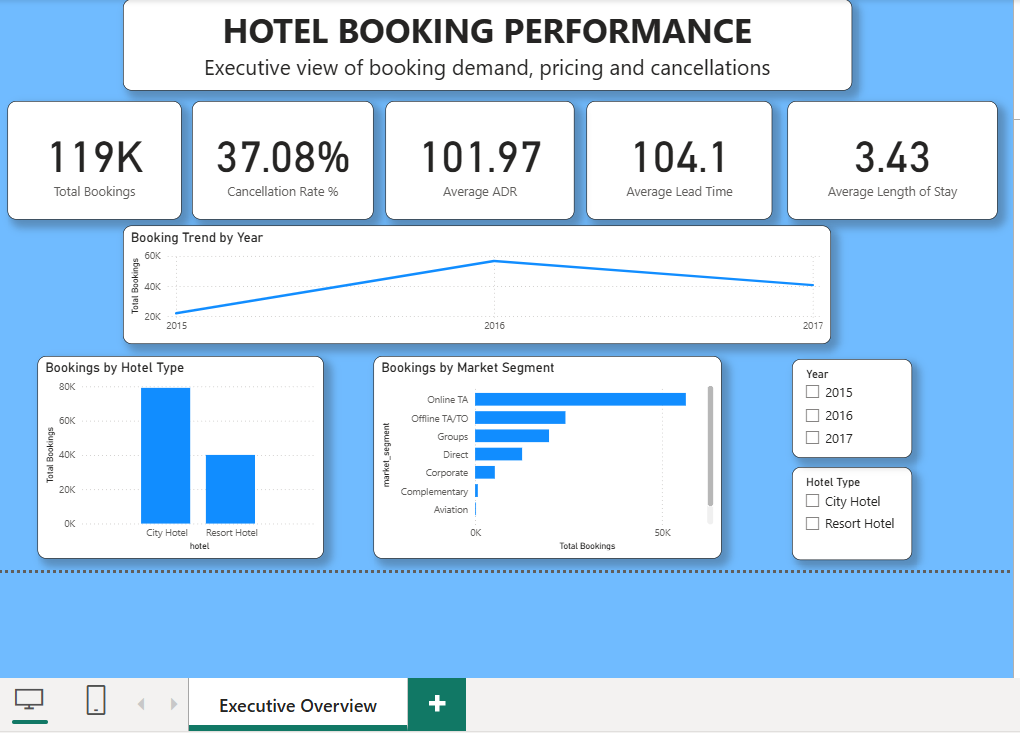

The page's visual inventory and layout, read from the dashboard file:
{"tool":"powerbi","page":{"name":"Executive Overview","canvas":[1280,720],"ordinal":0},"visuals":[{"type":"textbox","box":[158.7,0,918.4,115.3],"z":0},{"type":"card","fields":{"Values":["FactBookings.Total Bookings"]},"box":[13.2,128.5,219.2,149.3],"z":1},{"type":"card","fields":{"Values":["FactBookings.Average Lead Time"]},"box":[742.7,128.5,234.3,149.3],"z":2},{"type":"card","fields":{"Values":["FactBookings.Cancellation Rate %"]},"box":[245.7,128.5,228.7,149.3],"z":3},{"type":"card","fields":{"Values":["FactBookings.Average ADR"]},"box":[489.5,128.5,238.1,149.3],"z":4},{"type":"card","fields":{"Values":["FactBookings.Average Length of Stay"]},"box":[995.9,128.5,264.6,149.3],"z":5},{"type":"lineChart","title":"Booking Trend by Year","fields":{"Category":["DimDate.Date.Variation.Date Hierarchy.Year"],"Y":["FactBookings.Total Bookings"]},"box":[158.7,285.4,892,149.3],"z":6},{"type":"clusteredColumnChart","title":"Bookings by Hotel Type","fields":{"Category":["DimHotel.hotel"],"Y":["FactBookings.Total Bookings"]},"box":[51,449.8,360.9,255.1],"z":7},{"type":"clusteredBarChart","title":"Bookings by Market Segment","fields":{"Category":["DimMarketSegment.market_segment"],"Y":["FactBookings.Total Bookings"]},"box":[474.3,449.8,438.4,255.1],"z":8},{"type":"slicer","fields":{"Values":["DimHotel.hotel"]},"box":[1001.6,589.6,151.2,117.2],"z":9},{"type":"slicer","fields":{"Values":["DimDate.Date.Variation.Date Hierarchy.Year"]},"box":[1001.6,453.5,151.2,124.7],"z":10}]}

Visuals, with their boxes in screenshot pixels (x1, y1, x2, y2):
textbox: left=125, top=0, right=846, bottom=91
card - FactBookings.Total Bookings: left=10, top=101, right=183, bottom=218
card - FactBookings.Average Lead Time: left=584, top=101, right=768, bottom=218
card - FactBookings.Cancellation Rate %: left=193, top=101, right=373, bottom=218
card - FactBookings.Average ADR: left=385, top=101, right=572, bottom=218
card - FactBookings.Average Length of Stay: left=783, top=101, right=991, bottom=218
"Booking Trend by Year" lineChart: left=125, top=224, right=826, bottom=342
"Bookings by Hotel Type" clusteredColumnChart: left=40, top=353, right=324, bottom=554
"Bookings by Market Segment" clusteredBarChart: left=373, top=353, right=717, bottom=554
slicer - DimHotel.hotel: left=787, top=463, right=906, bottom=555
slicer - DimDate.Date.Variation.Date Hierarchy.Year: left=787, top=356, right=906, bottom=454
